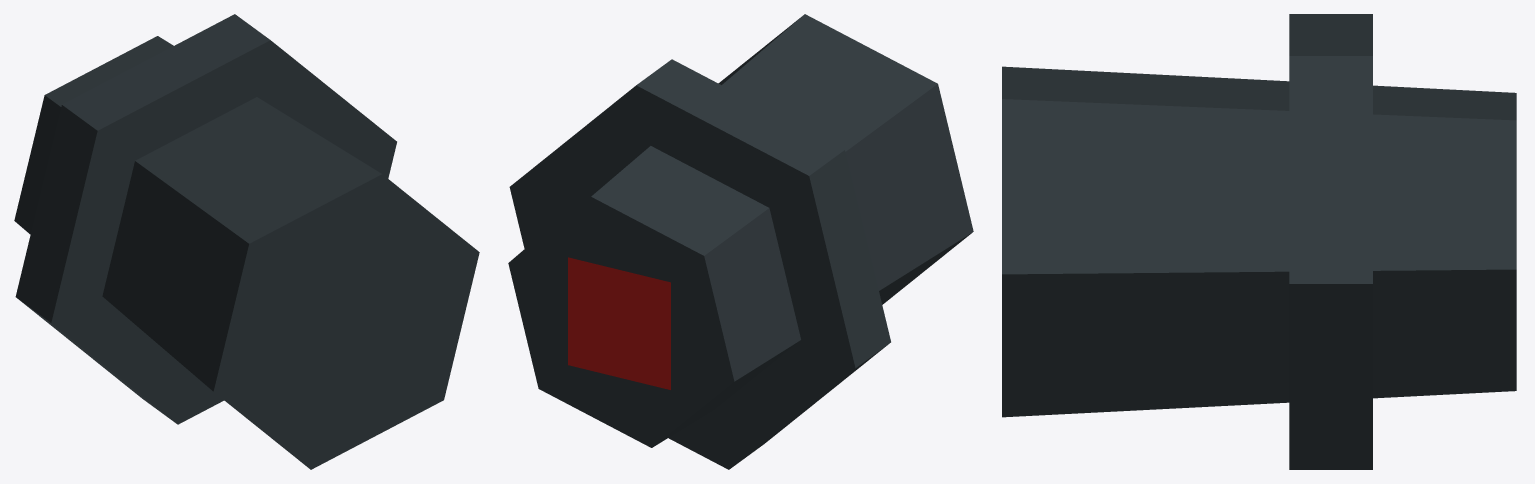
3 renders of one model, left to right at view 1: azimuth 30°, elevation 25°; view 2: azimuth 150°, elevation 25°; view 3: azimuth 270°, elevation 25°, orthographic. The views are drawn at different scales.
Parts seen in each view (by area): view 1: mount; view 2: mount; view 3: mount.
Boxes of the visible parts, x1,y1,x2,y2 form: mount: (14, 14, 479, 469); mount: (508, 14, 973, 469); mount: (1002, 14, 1516, 469).
Bounding box in the file's own units: 3.26 × 3.26 × 3.61.
